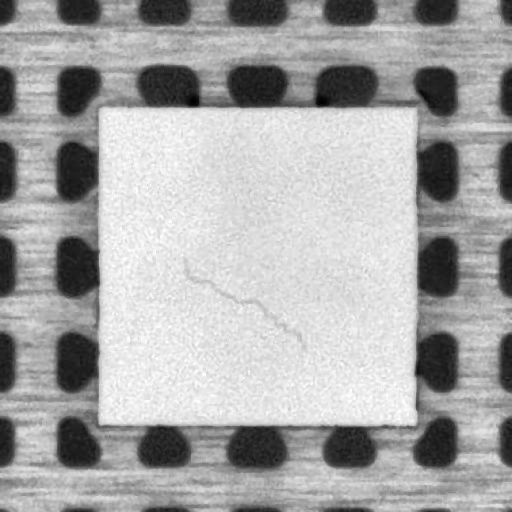DIE_CRACK: (182, 256, 306, 348)
